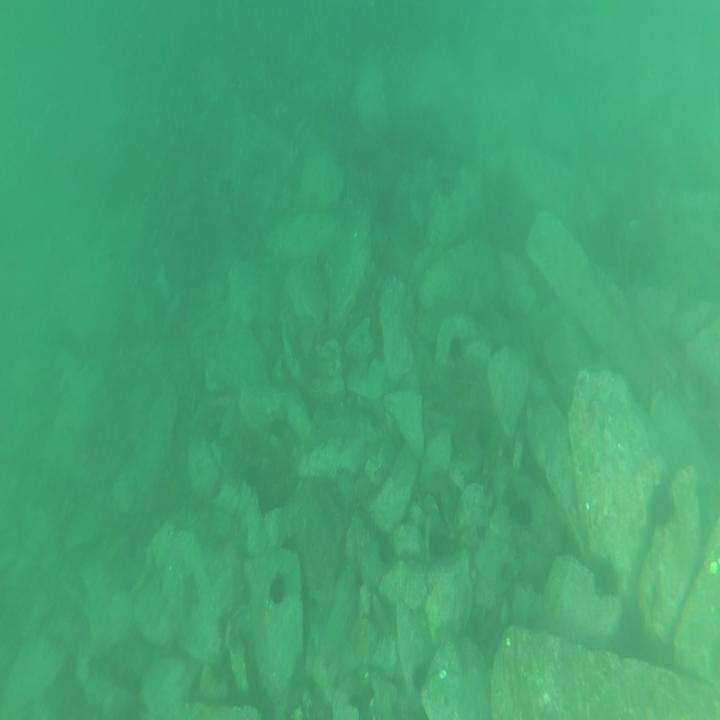echinus: (594, 558, 623, 600), (652, 483, 675, 524), (268, 573, 286, 605)
